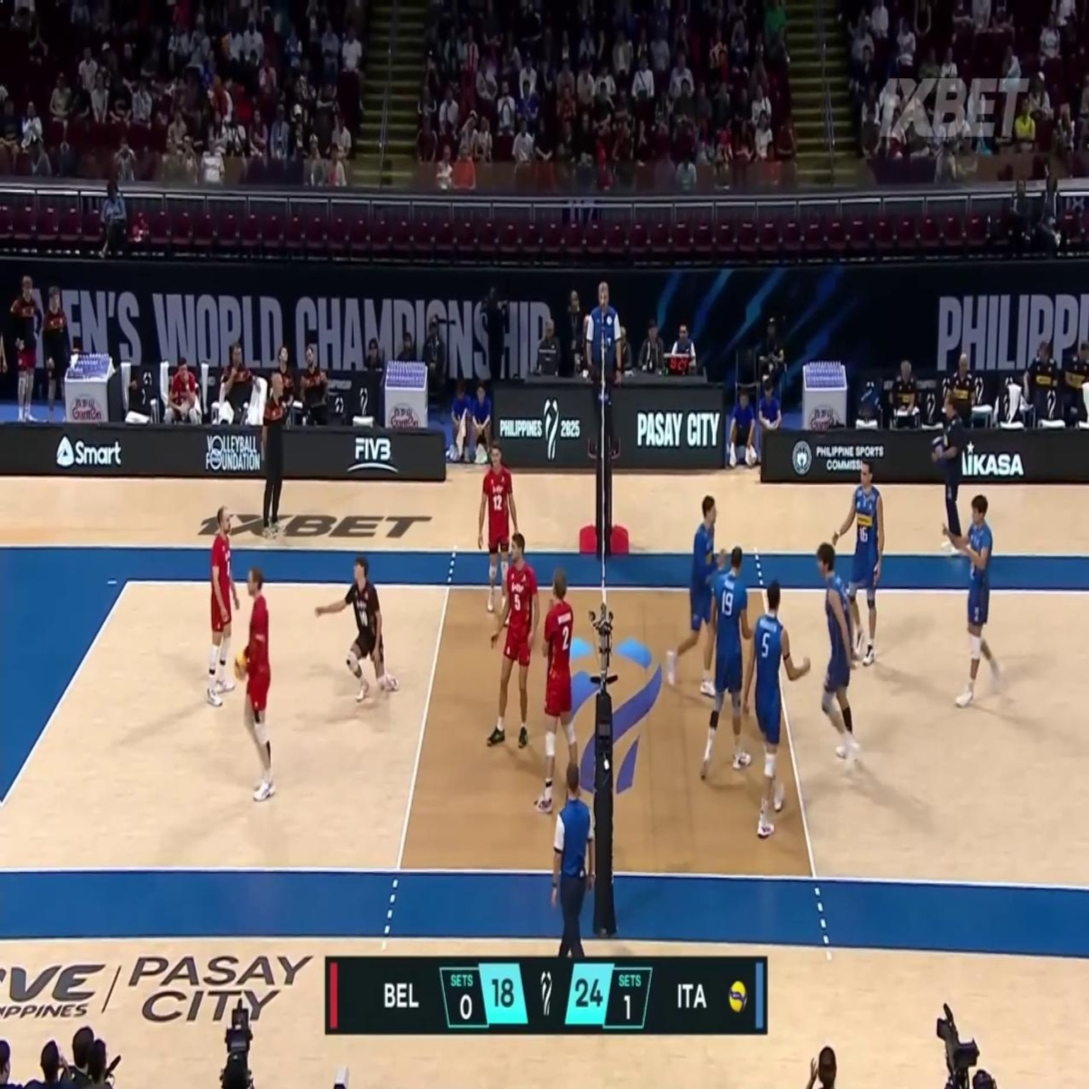ball: (233, 653, 246, 681)
